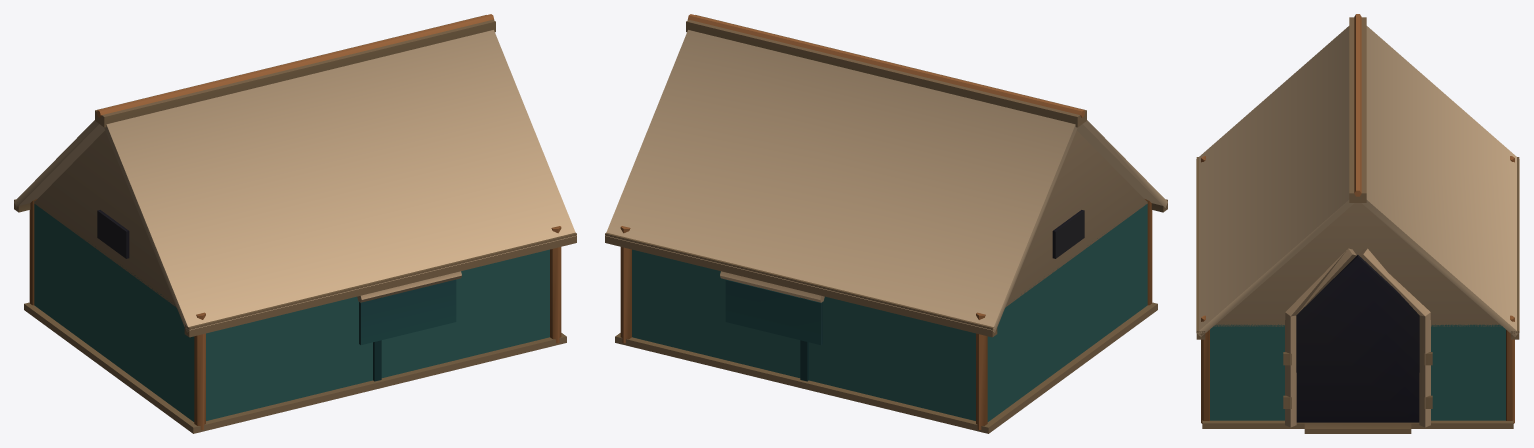
Rendered from prop.tent.lod1.glb.
The picture shows the model from 3 angles, left to right: view 1: azimuth 30°, elevation 25°; view 2: azimuth 150°, elevation 25°; view 3: azimuth 270°, elevation 25°; orthographic projection. The views are drawn at different scales.
Parts seen in each view (by area): view 1: body; view 2: body; view 3: body.
Part boxes in pixels (bbox=[...]): body: bbox=[14, 14, 576, 433]; body: bbox=[605, 14, 1167, 433]; body: bbox=[1196, 14, 1519, 433].
Bounding box in the file's own units: 3.94 × 2.51 × 3.03.
